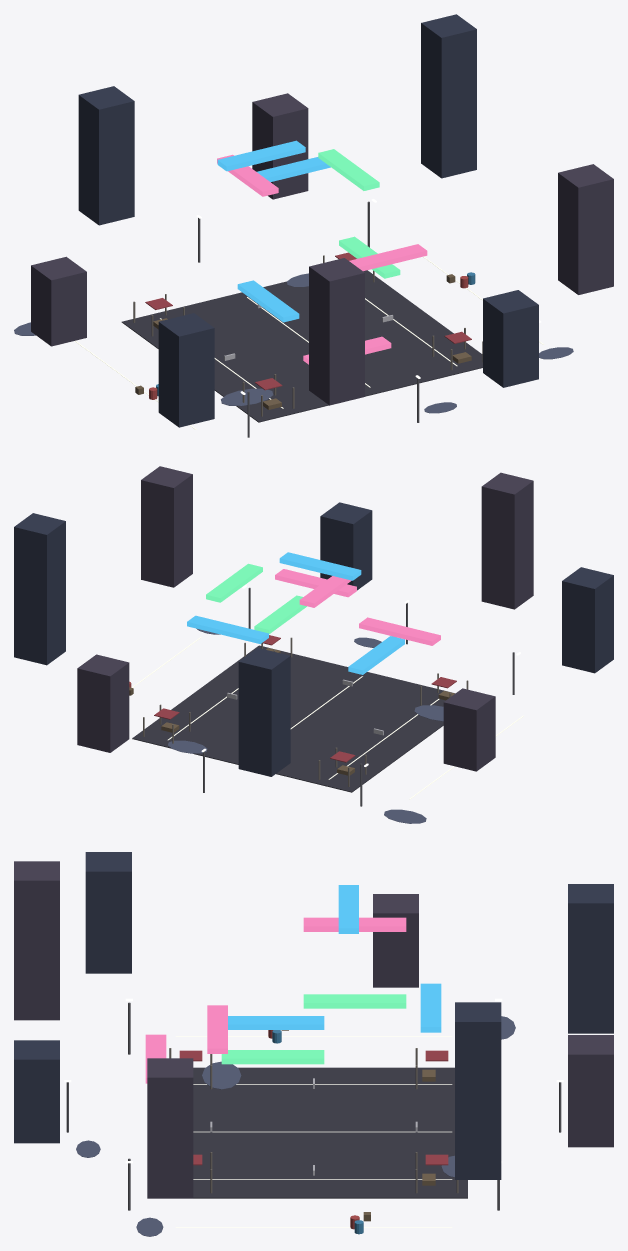
Rendered from city.glb.
The picture shows the model from 3 angles, top to bottom: view 1: azimuth 30°, elevation 25°; view 2: azimuth 150°, elevation 25°; view 3: azimuth 270°, elevation 25°; orthographic projection. The views are drawn at different scales.
Visible parts, largest first — view 1: ground, tower4, tower1, tower6, tower3, tower0, tower2, tower7, tower5, neon7, neon1, neon5 (+5 smaller); view 2: ground, tower4, tower1, tower6, tower3, tower0, tower5, tower7, tower2, neon7, neon0, neon4 (+5 smaller); view 3: ground, tower4, tower1, tower6, tower3, tower0, tower5, tower2, tower7, neon5, neon2, neon1 (+6 smaller).
Boxes of the visible parts, left/top/right/bottom form: ground: left=121, top=270, right=482, bottom=422; tower4: left=421, top=14, right=476, bottom=178; tower1: left=309, top=258, right=364, bottom=405; tower6: left=78, top=86, right=134, bottom=225; tower3: left=558, top=164, right=613, bottom=294; tower0: left=158, top=313, right=214, bottom=427; tower2: left=483, top=290, right=538, bottom=387; tower7: left=31, top=256, right=86, bottom=346; tower5: left=252, top=93, right=308, bottom=199; neon7: left=217, top=140, right=305, bottom=171; neon1: left=237, top=280, right=299, bottom=322; neon5: left=318, top=149, right=379, bottom=190; ground: left=132, top=645, right=455, bottom=792; tower4: left=14, top=513, right=65, bottom=665; tower1: left=481, top=472, right=533, bottom=609; tower6: left=238, top=648, right=290, bottom=776; tower3: left=141, top=466, right=192, bottom=587; tower0: left=562, top=567, right=613, bottom=673; tower5: left=77, top=654, right=129, bottom=752; tower7: left=443, top=688, right=495, bottom=771; tower2: left=320, top=502, right=372, bottom=590; neon7: left=279, top=552, right=361, bottom=580; neon0: left=359, top=617, right=440, bottom=645; neon4: left=187, top=615, right=268, bottom=643; ground: left=193, top=1067, right=467, bottom=1198; tower4: left=455, top=1002, right=501, bottom=1179; tower1: left=14, top=861, right=59, bottom=1020; tower6: left=568, top=884, right=613, bottom=1033; tower3: left=147, top=1058, right=193, bottom=1198; tower0: left=85, top=852, right=131, bottom=973; tower5: left=568, top=1035, right=613, bottom=1147; tower2: left=14, top=1040, right=59, bottom=1143; tower7: left=373, top=894, right=418, bottom=987; neon5: left=303, top=994, right=406, bottom=1008; neon2: left=221, top=1050, right=324, bottom=1064; neon1: left=228, top=1016, right=324, bottom=1029.
Size of the model in its own units: 58.5 by 25.65 by 58.5.
